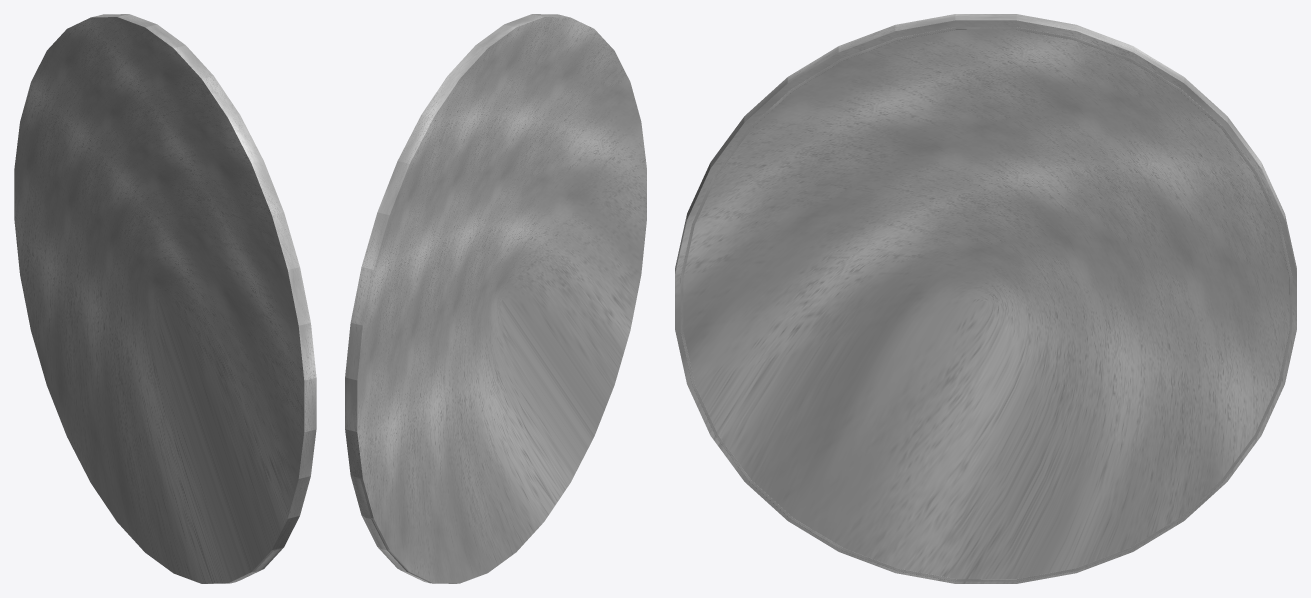
Rendered from Window01O_6x6.fbx.
3 renders of one model, left to right at view 1: azimuth 30°, elevation 25°; view 2: azimuth 150°, elevation 25°; view 3: azimuth 270°, elevation 25°, orthographic. The views are drawn at different scales.
Visible parts, largest first — view 1: Circle#2; view 2: Circle#2, Circle.007#2; view 3: Circle#2, Circle.007#2.
Boxes of the visible parts, x1,y1,x2,y2 form: Circle#2: [14, 14, 316, 583]; Circle#2: [345, 14, 646, 583]; Circle.007#2: [354, 478, 456, 583]; Circle#2: [675, 14, 1296, 583]; Circle.007#2: [680, 27, 1292, 581].
Size of the model in its own units: 0.2945 by 12.02 by 12.
2 materials, 2 textured.
